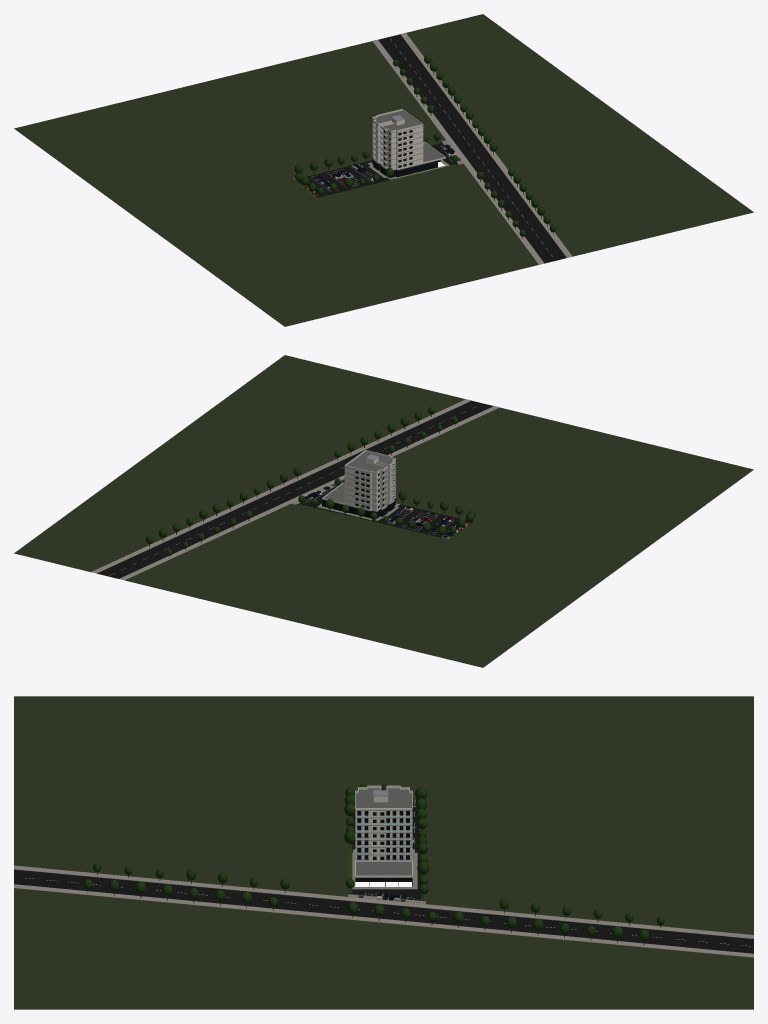
File: proje_kutle.obj
The picture shows the model from 3 angles, top to bottom: view 1: azimuth 30°, elevation 25°; view 2: azimuth 150°, elevation 25°; view 3: azimuth 270°, elevation 25°; orthographic projection. The views are drawn at different scales.
Parts seen in each view (by area): view 1: Cevre_Zemin, Odunluk_Caddesi, Kaldirimlar, Agac_Taclari, Normal_Katlar_Duvar, Otopark_Asfalt, Normal_Kat_Doseme_Bantlari, Yesil_Serit; view 2: Cevre_Zemin, Odunluk_Caddesi, Kaldirimlar, Agac_Taclari, Normal_Katlar_Duvar, Otopark_Asfalt, Yesil_Serit, Normal_Kat_Doseme_Bantlari; view 3: Cevre_Zemin, Odunluk_Caddesi, Kaldirimlar, Agac_Taclari, Normal_Katlar_Duvar, Normal_Kat_Camlar, Otopark_Asfalt, Cati_Kaplamasi, Normal_Kat_Doseme_Bantlari, Balkon_Korkuluk_Cam, Gezilemeyen_Teras, Parke_Kaplama.
Boxes of the visible parts, x1,y1,x2,y2 form: Cevre_Zemin: (14, 14, 753, 326); Odunluk_Caddesi: (378, 34, 566, 263); Kaldirimlar: (372, 32, 572, 264); Agac_Taclari: (294, 55, 556, 236); Normal_Katlar_Duvar: (372, 119, 423, 169); Otopark_Asfalt: (297, 141, 458, 197); Normal_Kat_Doseme_Bantlari: (372, 119, 423, 165); Yesil_Serit: (292, 142, 456, 199); Cevre_Zemin: (14, 355, 753, 667); Odunluk_Caddesi: (97, 401, 493, 578); Kaldirimlar: (91, 399, 499, 580); Agac_Taclari: (145, 406, 475, 555); Normal_Katlar_Duvar: (344, 460, 395, 511); Otopark_Asfalt: (296, 486, 472, 537); Yesil_Serit: (298, 487, 477, 540); Normal_Kat_Doseme_Bantlari: (344, 460, 395, 506); Cevre_Zemin: (14, 696, 753, 1009); Odunluk_Caddesi: (14, 869, 753, 953); Kaldirimlar: (14, 865, 753, 957); Agac_Taclari: (83, 783, 664, 941); Normal_Katlar_Duvar: (355, 811, 412, 861); Normal_Kat_Camlar: (357, 811, 409, 859); Otopark_Asfalt: (348, 802, 425, 901); Cati_Kaplamasi: (356, 788, 411, 807); Normal_Kat_Doseme_Bantlari: (355, 810, 412, 855); Balkon_Korkuluk_Cam: (356, 815, 411, 861); Gezilemeyen_Teras: (356, 862, 411, 875); Parke_Kaplama: (348, 849, 425, 904).
Size of the model in its own units: 300 by 30.72 by 300.
